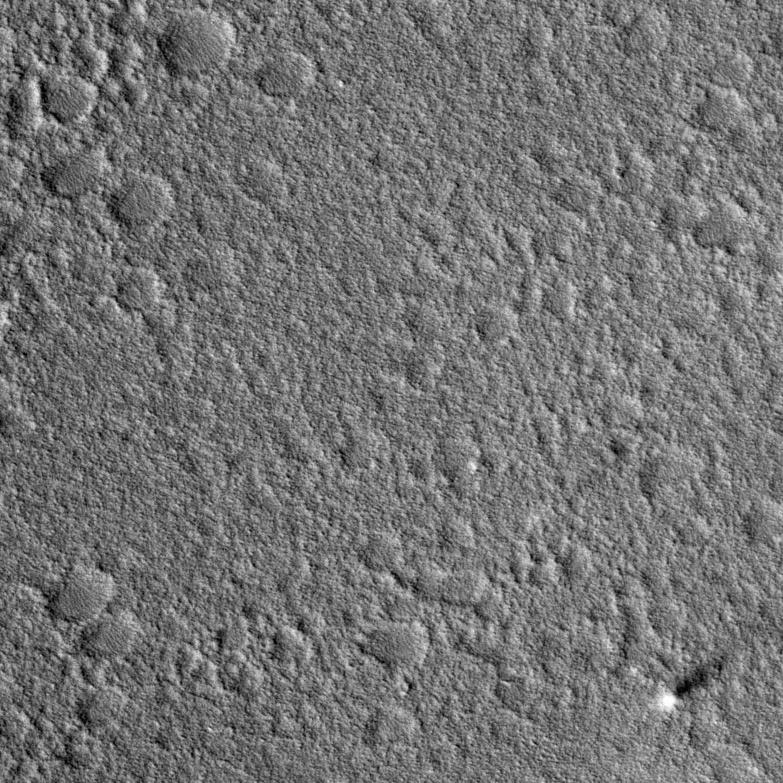dust_devil: (655, 653, 732, 713)
